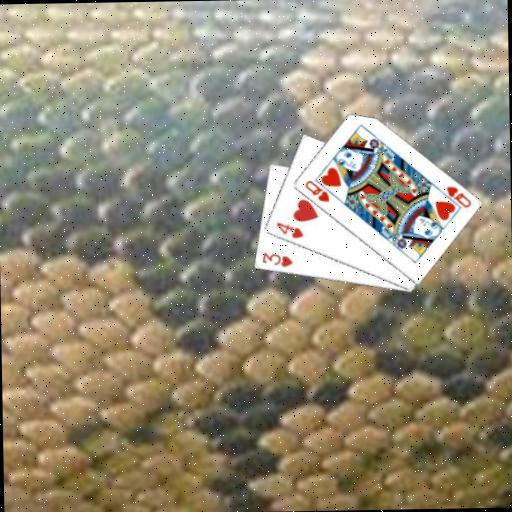3H: (259, 249, 294, 269)
4H: (273, 219, 305, 240)
QH: (436, 183, 473, 211), (302, 177, 331, 204)
